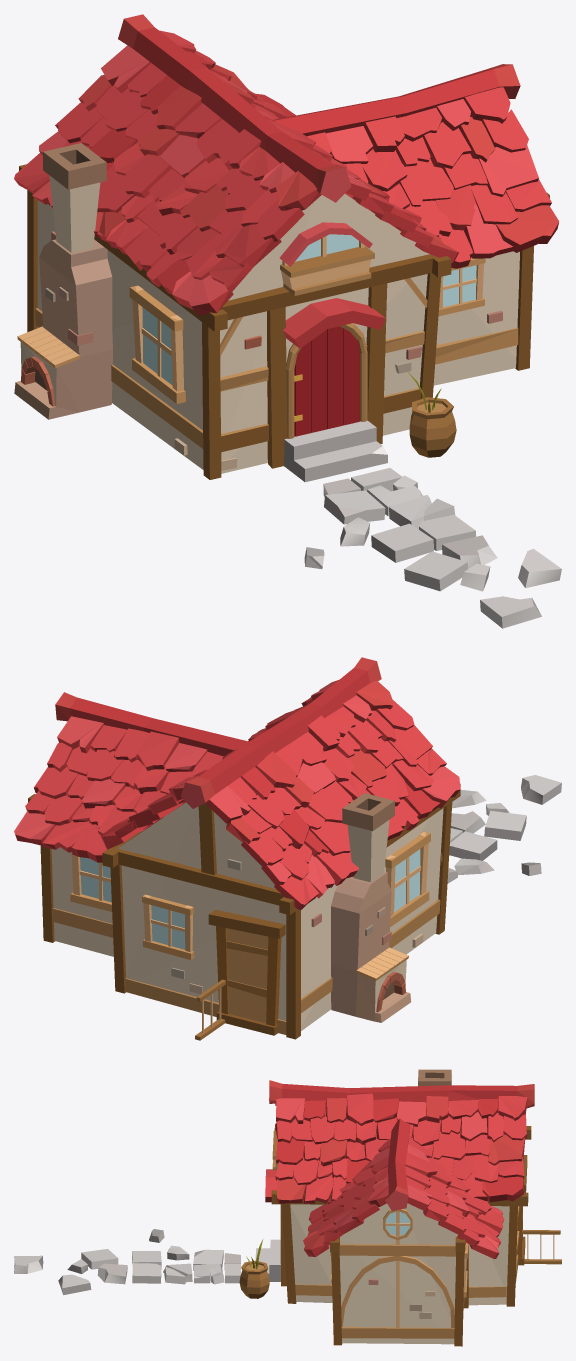
File: house.FBX
3 views of the same model, one above another, from view 1: azimuth 30°, elevation 25°; view 2: azimuth 150°, elevation 25°; view 3: azimuth 270°, elevation 25° (orthographic). The views are drawn at different scales.
Parts seen in each view (by area): view 1: Box055; view 2: Box055; view 3: Box055.
Boxes of the visible parts, x1,y1,x2,y2 form: Box055: [14, 14, 561, 628]; Box055: [14, 657, 561, 1040]; Box055: [14, 1069, 561, 1346].
Size of the model in its own units: 22.36 by 14.66 by 37.62.
1 material, 1 textured.
